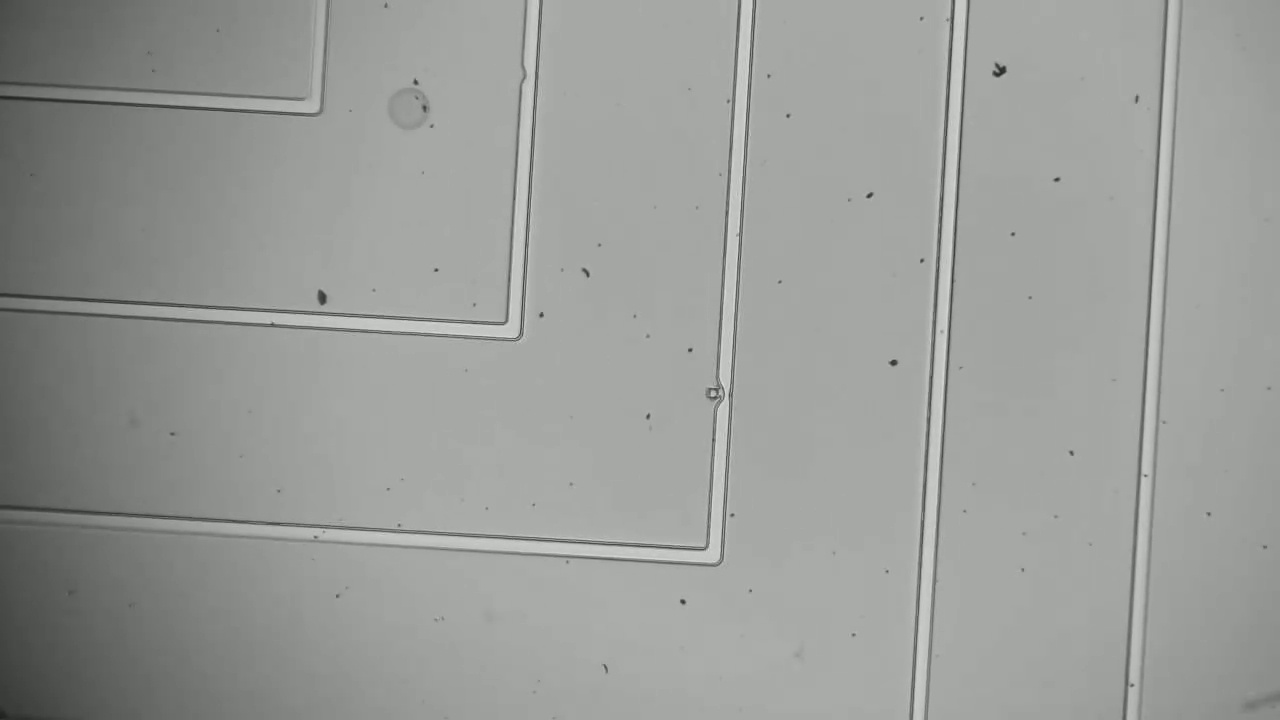edge_bite: (697, 376, 747, 418), (509, 55, 547, 95)
